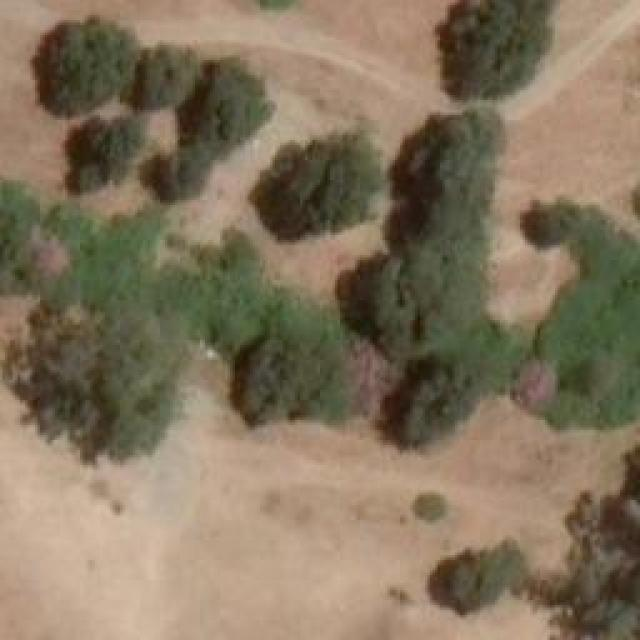Tree: (20, 285, 180, 453), (530, 213, 640, 428), (342, 228, 489, 350), (383, 338, 508, 453), (390, 110, 488, 235), (564, 477, 637, 640), (257, 135, 375, 235), (225, 335, 343, 428), (433, 0, 536, 95), (35, 20, 130, 115), (178, 68, 271, 148), (70, 115, 145, 190), (430, 545, 508, 613), (130, 45, 198, 108), (515, 198, 580, 248), (0, 183, 40, 263), (145, 155, 215, 200), (408, 488, 448, 521)
